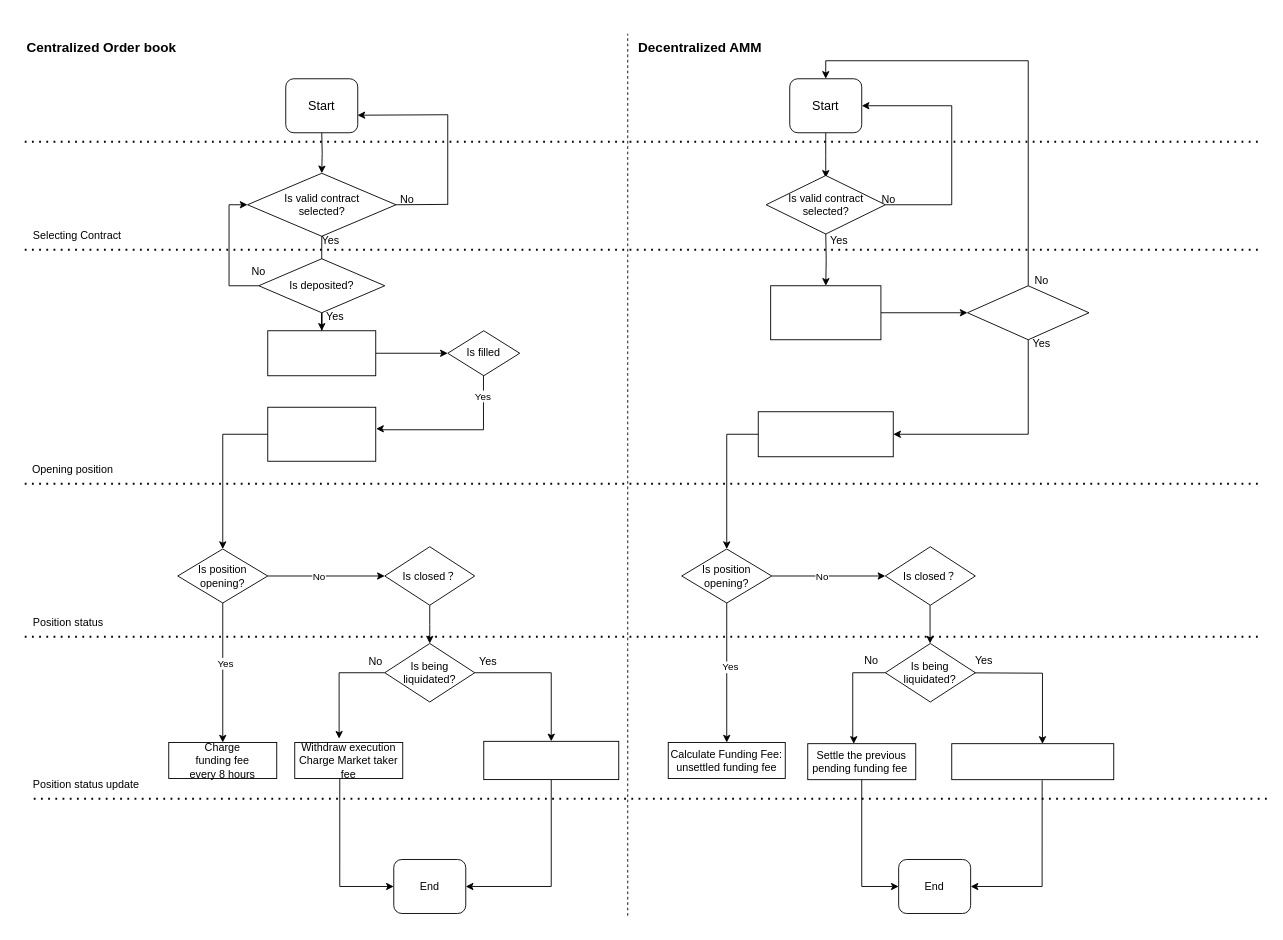
Image size: 1283x940. Some labels were removed from this diagram. Here are the shapes that lost their labels. From the top down, the centre of each, then its label:
At (825,312): "Connect to wallet to deposit margin".
At (1028,312): "Is transaction successful?".
At (321,353): "Submit order".
At (321,433): "Trade execution Charge execution Fee".
At (825,434): "Monitor opened position".
At (551,760): "Liquidation execution Charge Liquidation fee + Market taker fee".
At (1032,761): "Liquidation p enalty + forced settlment of funding fee".
